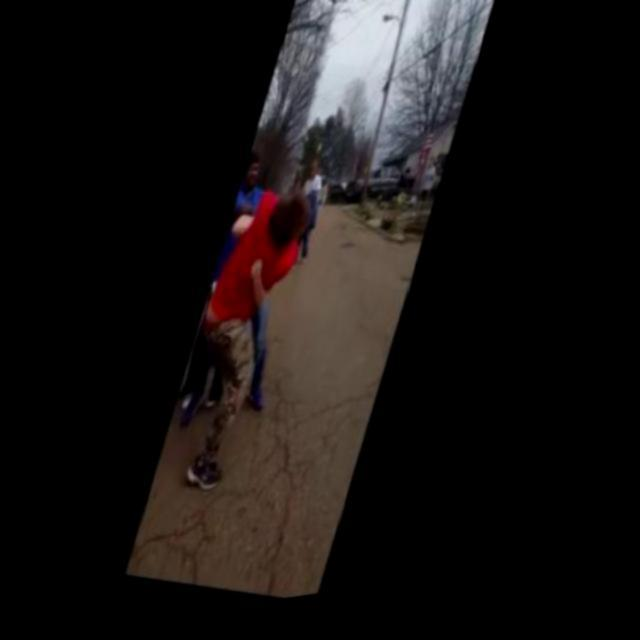fight: (172, 175, 324, 514)
